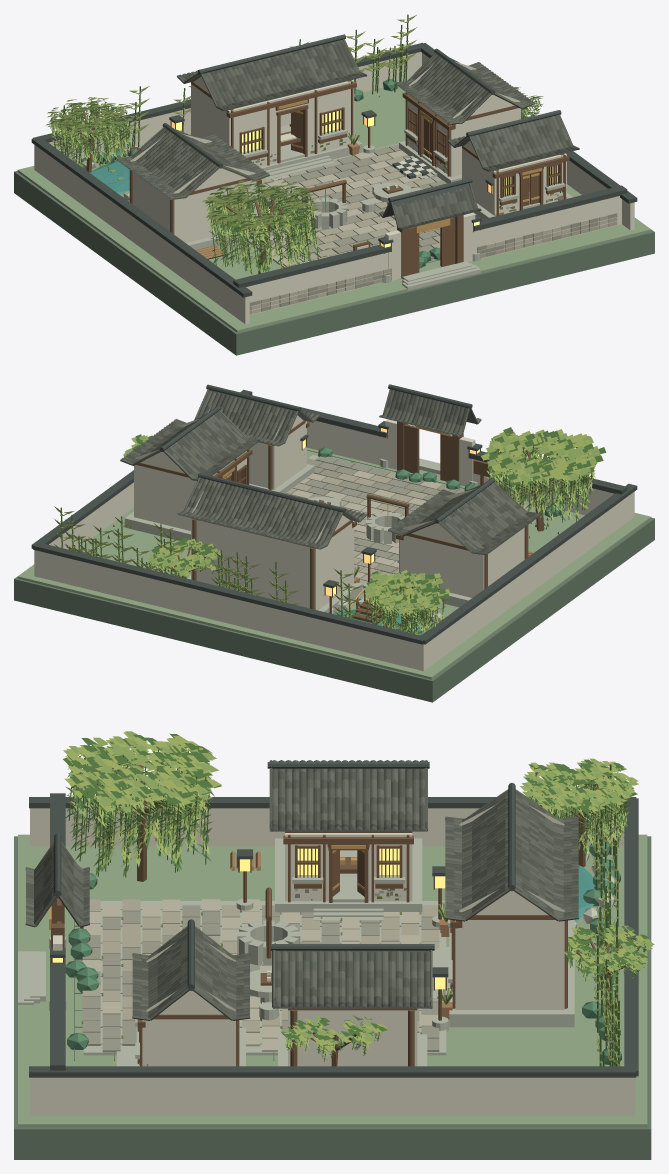
Rendered from estate-pixel.glb.
The picture shows the model from 3 angles, top to bottom: view 1: azimuth 30°, elevation 25°; view 2: azimuth 150°, elevation 25°; view 3: azimuth 270°, elevation 25°; orthographic projection. The views are drawn at different scales.
Visible parts, largest first — view 1: landscape / Earth · deep moss, landscape / Garden · sage, landscape / Lime plaster · ivory, landscape / leafdark, nav_home / Lime plaster · ivory, landscape / leaflight, landscape / Willow · olive, nav_library / Lime plaster · ivory, landscape / Tiles · charcoal jade, nav_home / Tiles · charcoal jade, nav_making / Lime plaster · ivory, nav_library / Timber · walnut (+38 smaller); view 2: landscape / Lime plaster · ivory, landscape / Earth · deep moss, landscape / Garden · sage, nav_library / Lime plaster · ivory, landscape / leaflight, landscape / leafdark, landscape / Tiles · charcoal jade, landscape / Willow · olive, nav_making / Lime plaster · ivory, nav_home / Lime plaster · ivory, nav_lab / Lime plaster · ivory, nav_home / slab0 (+32 smaller); view 3: landscape / Garden · sage, landscape / Lime plaster · ivory, landscape / Earth · deep moss, landscape / leafdark, landscape / Tiles · charcoal jade, landscape / leaflight, landscape / Willow · olive, nav_library / Lime plaster · ivory, nav_home / Limestone · warm grey, nav_home / slab0, nav_home / slab1, nav_backyard / Lime plaster · ivory (+34 smaller).
Part boxes in pixels (left/top/right/bottom): landscape / Earth · deep moss: left=14, top=171, right=654, bottom=355; landscape / Garden · sage: left=17, top=86, right=651, bottom=332; landscape / Lime plaster · ivory: left=34, top=52, right=634, bottom=324; landscape / leafdark: left=48, top=14, right=542, bottom=274; nav_home / Lime plaster · ivory: left=246, top=184, right=621, bottom=314; landscape / leaflight: left=46, top=15, right=543, bottom=268; landscape / Willow · olive: left=47, top=16, right=566, bottom=274; nav_library / Lime plaster · ivory: left=191, top=51, right=354, bottom=166; landscape / Tiles · charcoal jade: left=31, top=42, right=637, bottom=297; nav_home / Tiles · charcoal jade: left=233, top=177, right=627, bottom=287; nav_making / Lime plaster · ivory: left=130, top=134, right=258, bottom=242; nav_library / Timber · walnut: left=191, top=79, right=356, bottom=165; landscape / Lime plaster · ivory: left=34, top=482, right=634, bottom=671; landscape / Earth · deep moss: left=14, top=517, right=654, bottom=702; landscape / Garden · sage: left=17, top=447, right=651, bottom=679; nav_library / Lime plaster · ivory: left=191, top=490, right=354, bottom=610; landscape / leaflight: left=54, top=429, right=597, bottom=634; landscape / leafdark: left=60, top=427, right=606, bottom=635; landscape / Tiles · charcoal jade: left=31, top=389, right=637, bottom=644; landscape / Willow · olive: left=57, top=429, right=600, bottom=632; nav_making / Lime plaster · ivory: left=399, top=489, right=527, bottom=597; nav_home / Lime plaster · ivory: left=306, top=419, right=614, bottom=515; nav_lab / Lime plaster · ivory: left=134, top=418, right=246, bottom=530; nav_home / slab0: left=189, top=456, right=464, bottom=587; landscape / Garden · sage: left=18, top=834, right=647, bottom=1127; landscape / Lime plaster · ivory: left=30, top=808, right=635, bottom=1115; landscape / Earth · deep moss: left=14, top=836, right=651, bottom=1159; landscape / leafdark: left=63, top=733, right=651, bottom=1066; landscape / Tiles · charcoal jade: left=29, top=797, right=638, bottom=1077; landscape / leaflight: left=63, top=732, right=647, bottom=1066; landscape / Willow · olive: left=63, top=731, right=654, bottom=1065; nav_library / Lime plaster · ivory: left=455, top=804, right=564, bottom=1009; nav_home / Limestone · warm grey: left=18, top=901, right=446, bottom=1055; nav_home / slab0: left=82, top=905, right=439, bottom=1052; nav_home / slab1: left=82, top=899, right=439, bottom=1032; nav_backyard / Lime plaster · ivory: left=142, top=942, right=235, bottom=1066.
Size of the model in its own units: 17.4 by 4.98 by 16.09.
